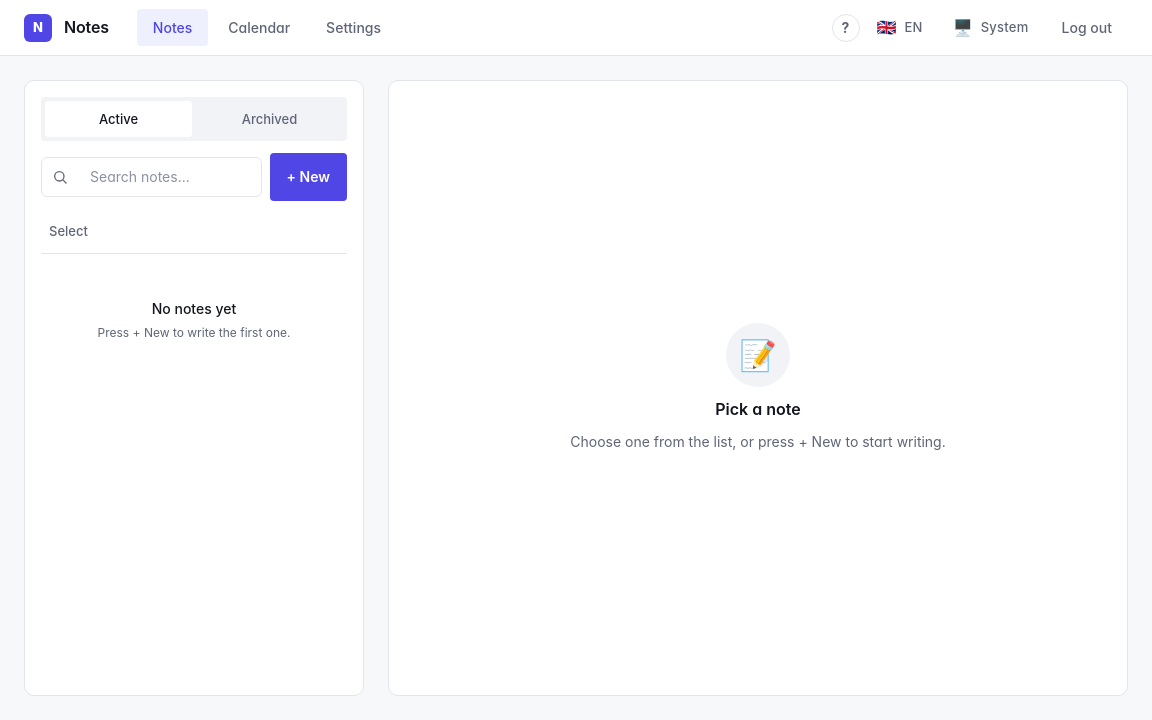
Test: App routing follows the session store › returns to the login form when the session ends
Expected: the heading "Pick a note" is shown, [715,399,801,419]
What coordinates should you click on to do the following:
click the button "Log out"
I would click on:
 (1087, 28)
Its box is [1046,9,1128,46].
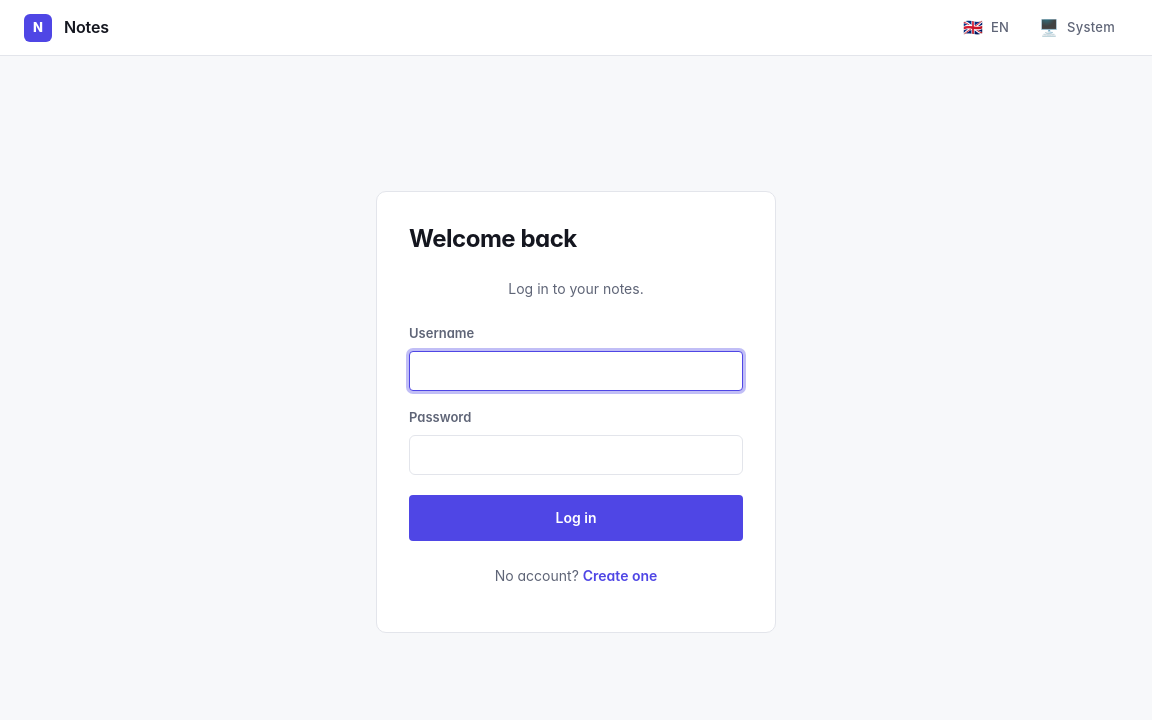
Result: the heading "Welcome back" is shown at [409,224,577,253]
